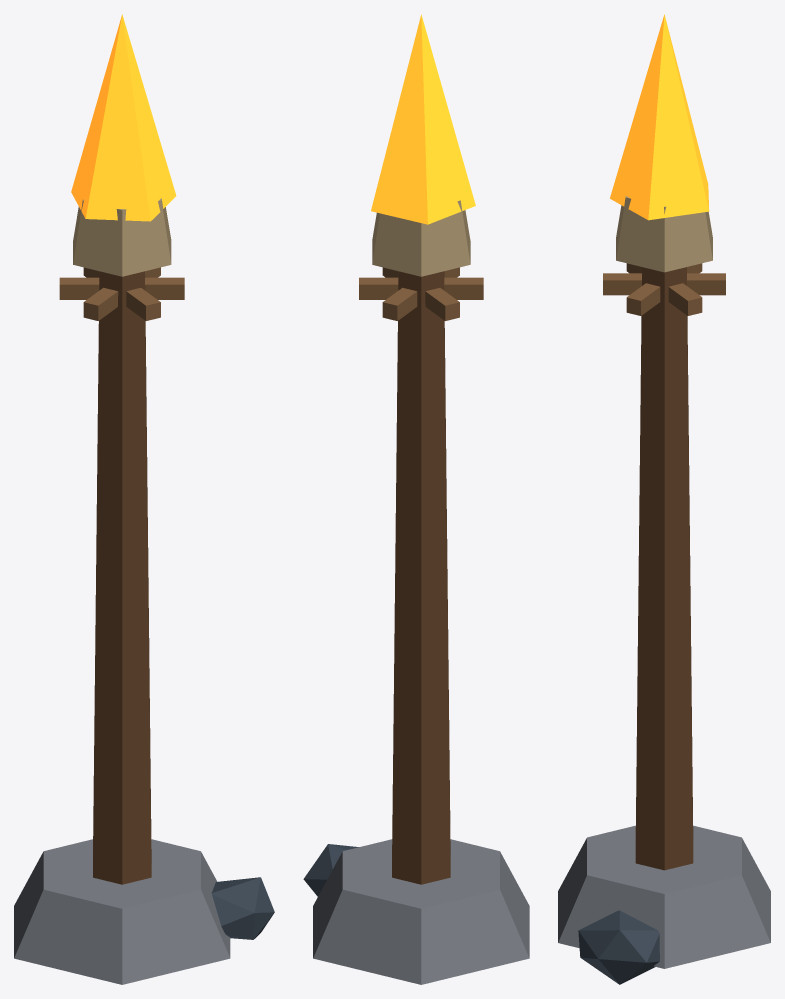
File: torch-standing.glb
The picture shows the model from 3 angles, left to right: view 1: azimuth 30°, elevation 25°; view 2: azimuth 150°, elevation 25°; view 3: azimuth 270°, elevation 25°; orthographic projection.
Visible parts, largest first — view 1: torch_standing, flame; view 2: torch_standing, flame; view 3: torch_standing, flame.
Part boxes in pixels (box(x1,y1,x2,y2)): torch_standing: box(14, 198, 274, 984); flame: box(71, 14, 176, 221); torch_standing: box(303, 200, 529, 984); flame: box(371, 14, 475, 224); torch_standing: box(558, 196, 770, 984); flame: box(610, 14, 709, 220).
Size of the model in its own units: 0.4781 by 1.81 by 0.3811.
